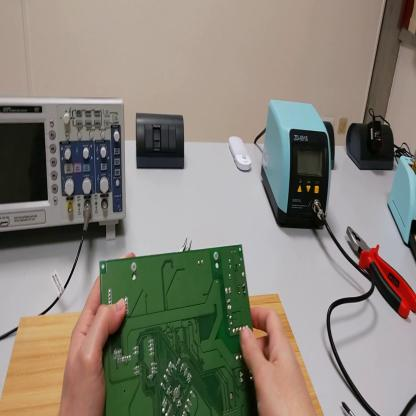hand: (59, 253, 138, 416), (241, 303, 312, 415)
low voltage board: (99, 246, 258, 416)
oscilloscope: (2, 100, 127, 245)
pliers: (348, 229, 415, 322)
screwdriver-: (344, 401, 355, 415)
socket: (347, 120, 395, 171), (324, 120, 336, 167)
welder base: (387, 156, 416, 259)
welder station: (263, 101, 330, 230)
working area: (1, 298, 324, 416)
